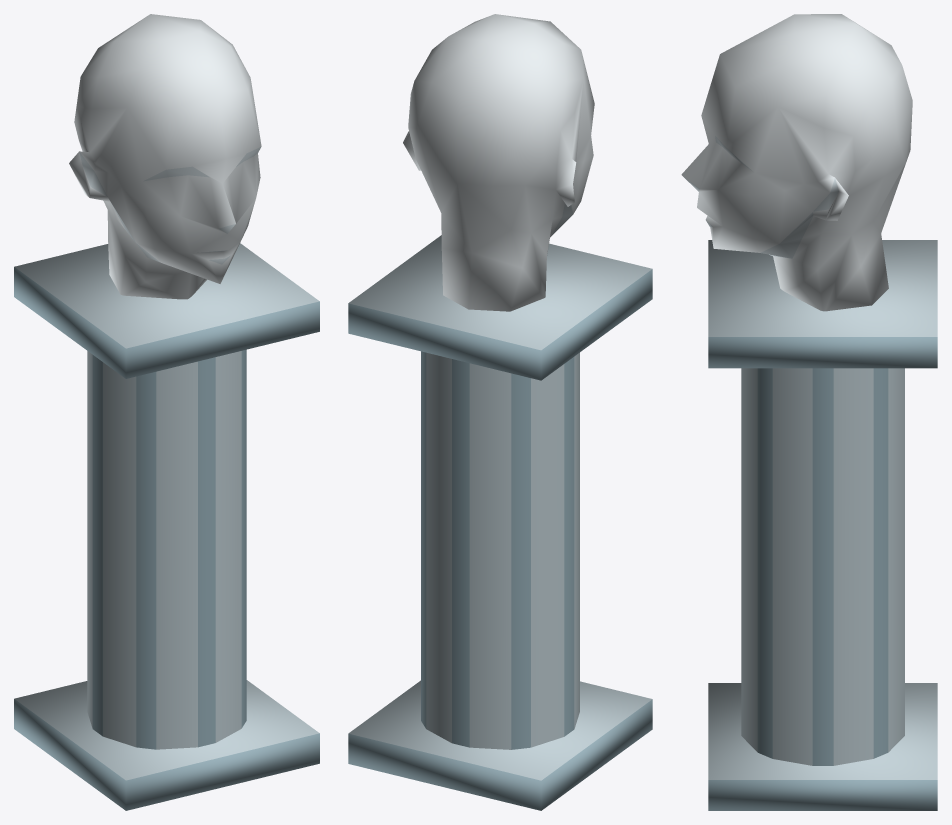
Rendered from FBX_Statue_A.fbx.
3 renders of one model, left to right at view 1: azimuth 30°, elevation 25°; view 2: azimuth 150°, elevation 25°; view 3: azimuth 270°, elevation 25°, orthographic. The views are drawn at different scales.
Visible parts, largest first — view 1: Statue_A; view 2: Statue_A; view 3: Statue_A.
Boxes of the visible parts, x1,y1,x2,y2 form: Statue_A: (14, 14, 319, 810); Statue_A: (348, 14, 652, 810); Statue_A: (681, 14, 937, 810).
Bounding box in the file's own units: 78.04 × 87.28 × 277.
